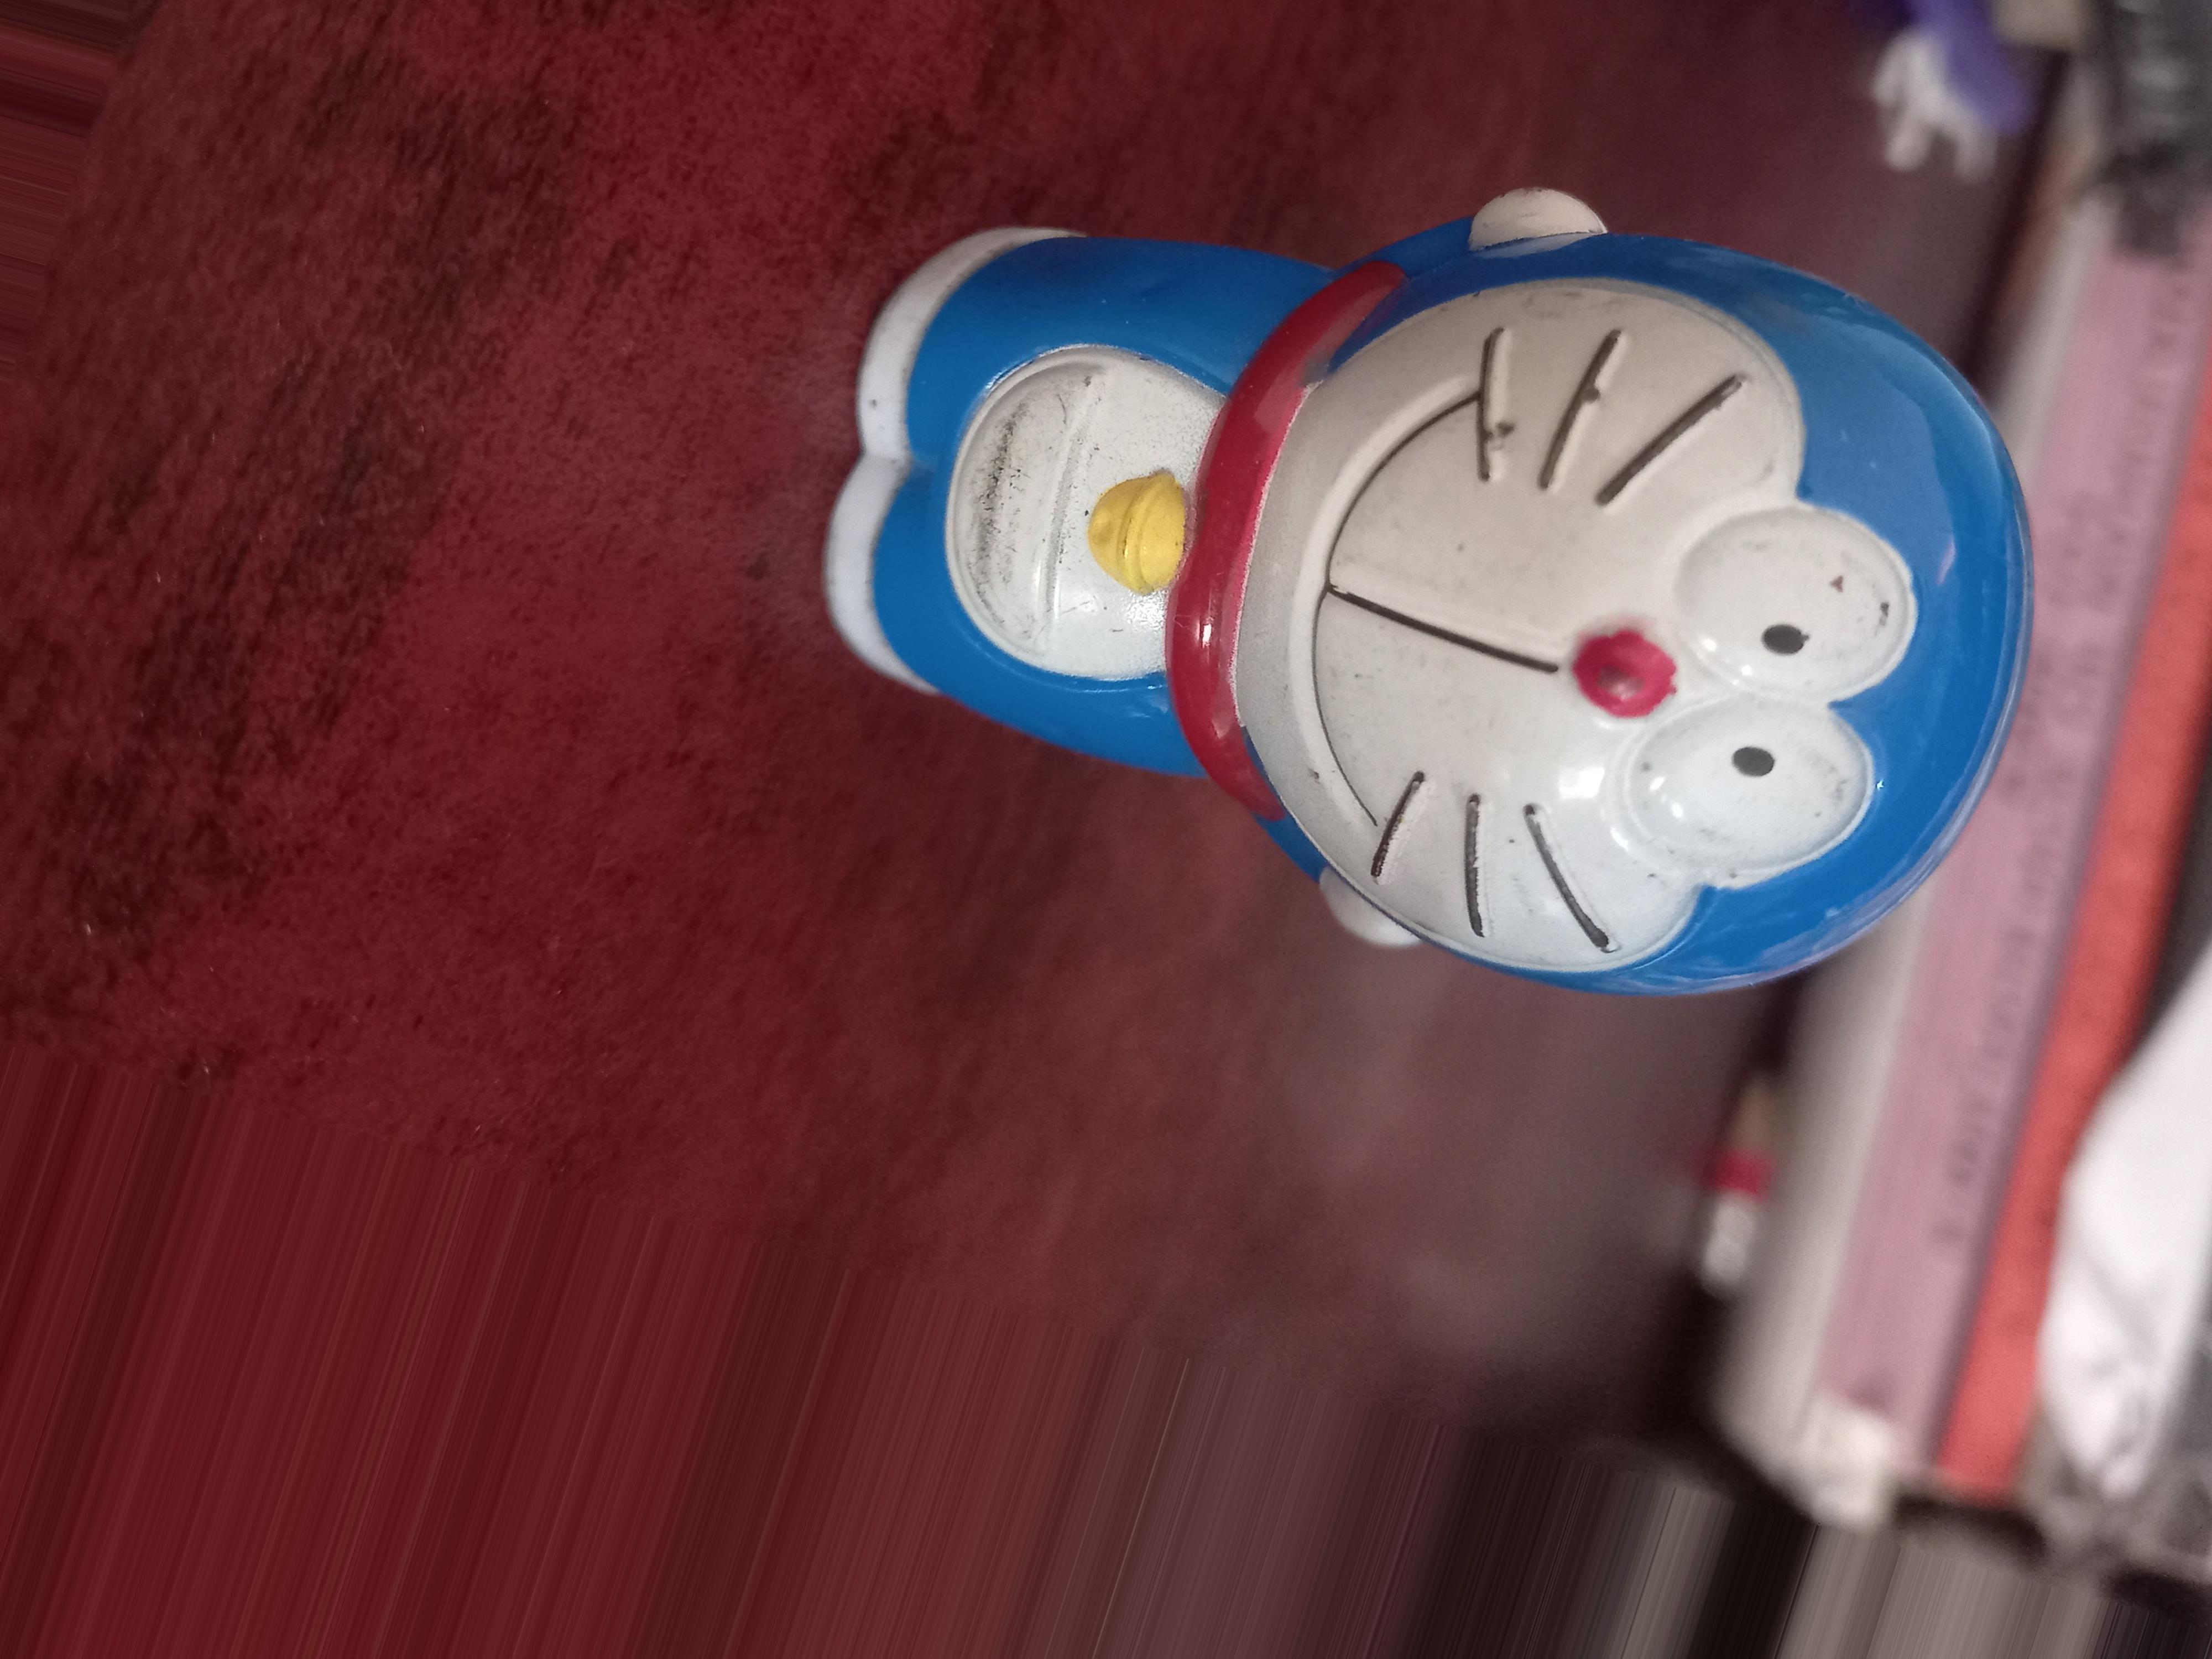doraemon: (855, 227, 2027, 979)
